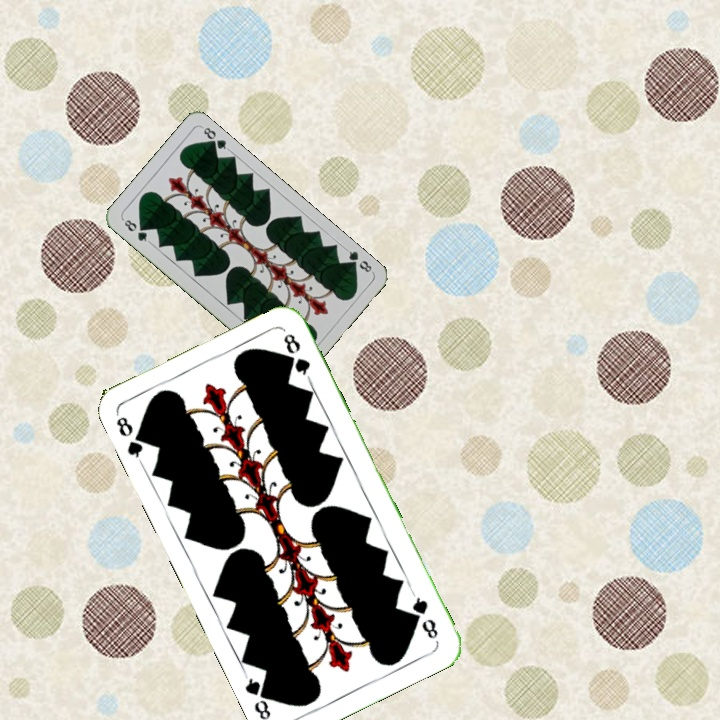G8: (112, 411, 151, 466), (408, 589, 441, 642), (341, 244, 376, 275), (119, 215, 153, 245)
